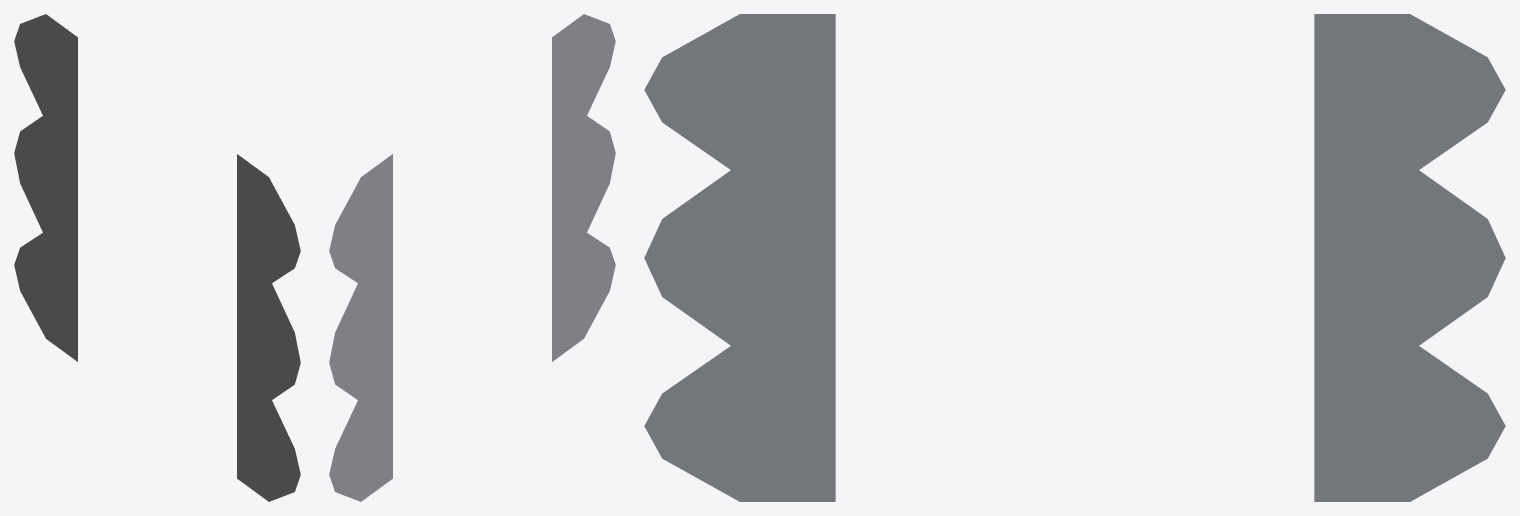
File: guardrail_thrie_beam_wood_double_end_right_up.obj
3 renders of one model, left to right at view 1: azimuth 30°, elevation 25°; view 2: azimuth 150°, elevation 25°; view 3: azimuth 270°, elevation 25°, orthographic. The views are drawn at different scales.
Visible parts, largest first — view 1: guardrail_thrie_beam_wood_double_end_right_up; view 2: guardrail_thrie_beam_wood_double_end_right_up; view 3: guardrail_thrie_beam_wood_double_end_right_up.
Boxes of the visible parts, bbox=[...] form: guardrail_thrie_beam_wood_double_end_right_up: bbox=[14, 14, 300, 501]; guardrail_thrie_beam_wood_double_end_right_up: bbox=[329, 14, 615, 501]; guardrail_thrie_beam_wood_double_end_right_up: bbox=[644, 14, 1505, 501].
Bounding box in the file's own units: 0 × 0.5625 × 0.9.
